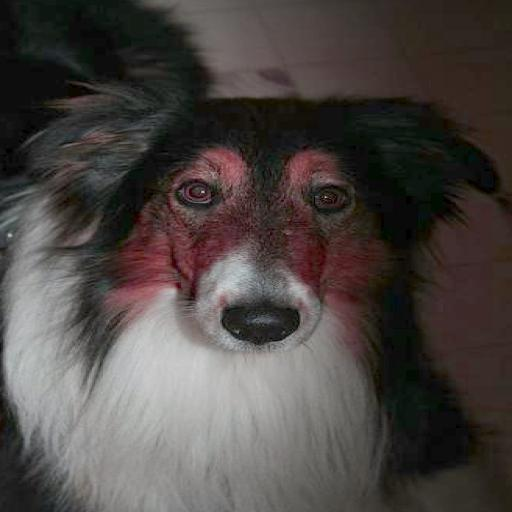dog_face: (32, 93, 472, 360)
